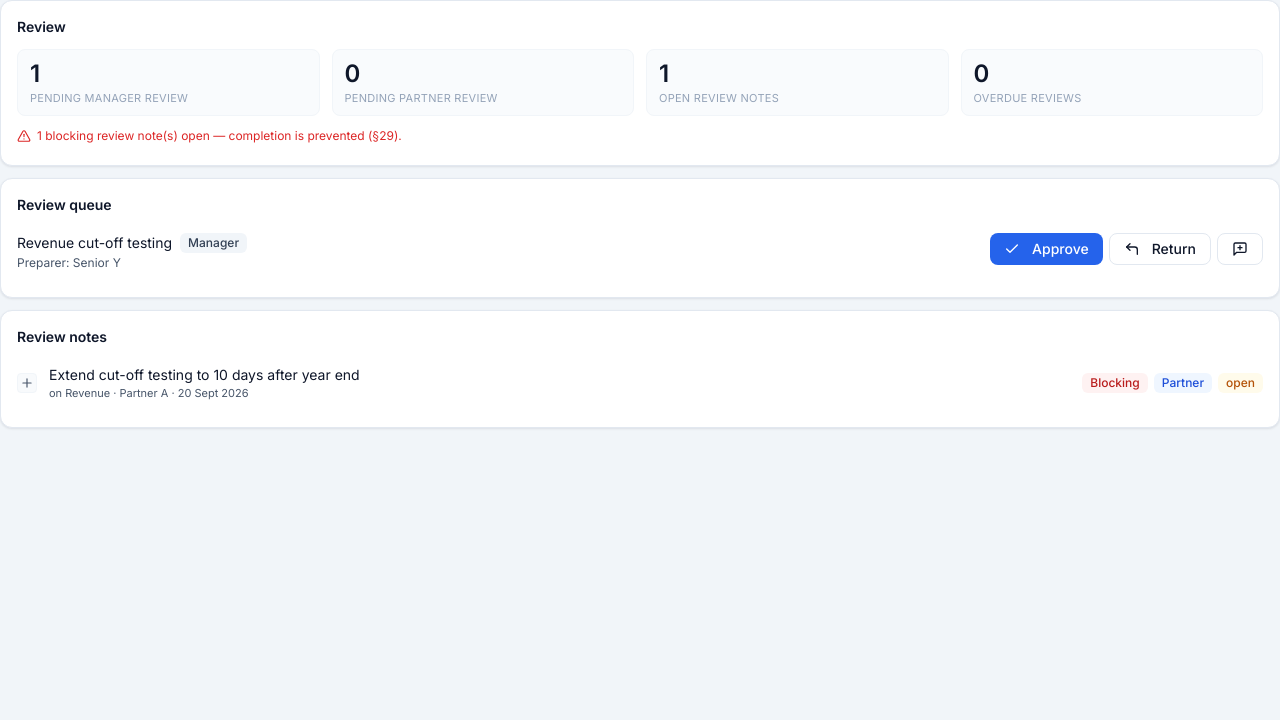
Test case: Review inline panels › records a note against a queue item inline under its row
Click the button named "Record note". click: (1240, 248)
box: [1217,232,1263,264]
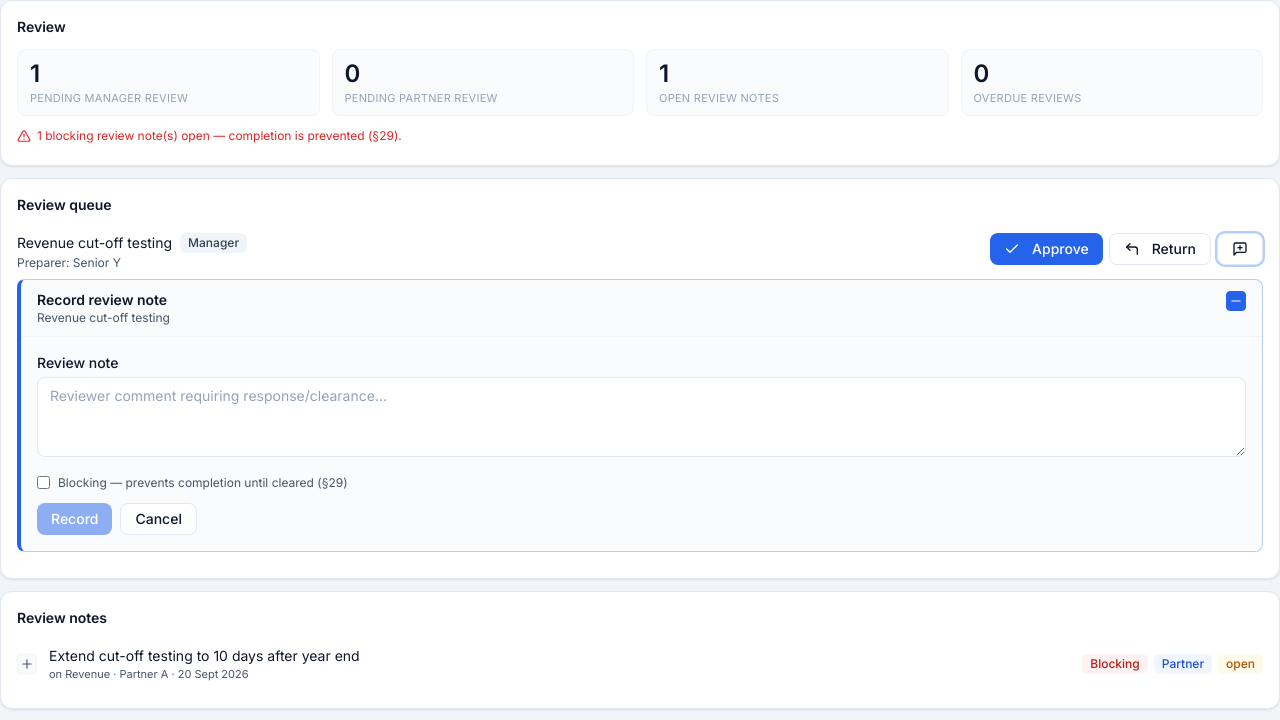
expect the text "Revenue cut-off testing" below "Record review note" is shown: met, box [37,310,170,324]
expect the text "Blocking — prevents completion until cleared (§29)" is shown: met, box [37,474,348,490]
